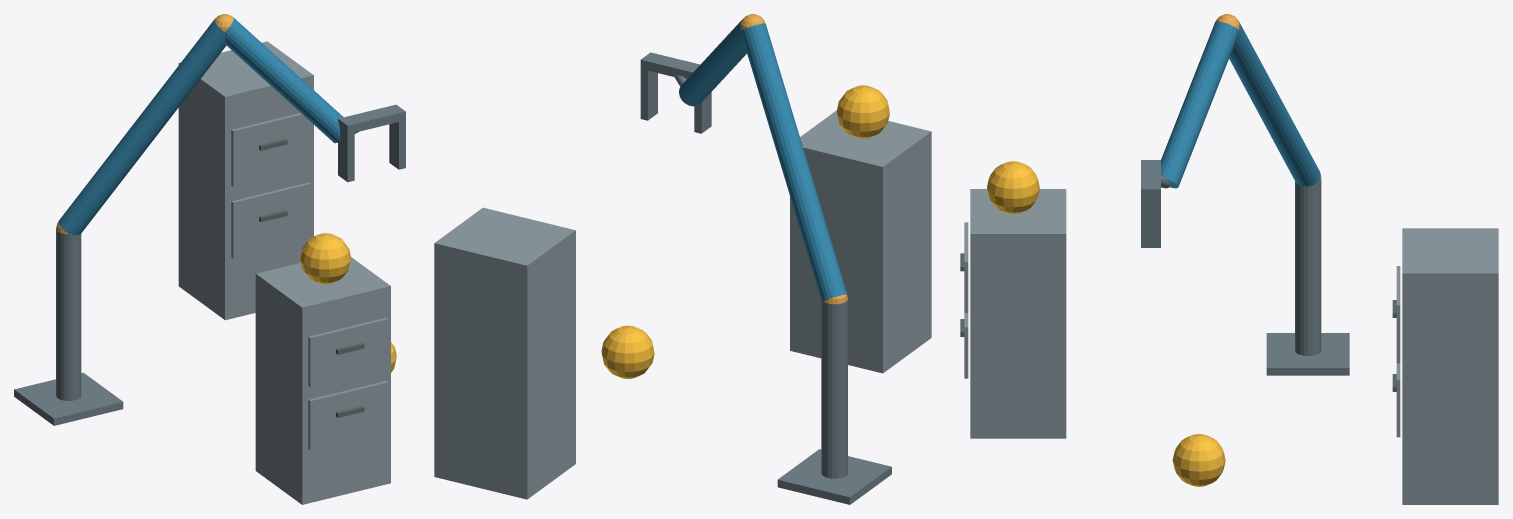
3 views of the same model, side by side, from view 1: azimuth 30°, elevation 25°; view 2: azimuth 150°, elevation 25°; view 3: azimuth 270°, elevation 25° (orthographic). The views are drawn at different scales.
Parts seen in each view (by area): view 1: cabinet_1 body, cabinet_2 body, moving link 1, cabinet_2 drawer front, cabinet_2 drawer front.001, fixed post, cabinet_1 drawer front, cabinet_1 drawer front.001, moving link 2, pedestal, released ball_1, gripper bridge (+2 smaller); view 2: cabinet_2 body, cabinet_1 body, moving link 1, fixed post, pedestal, moving link 2, released ball_1, ball ball_2, gripper bridge, gripper finger 1, gripper finger -1; view 3: cabinet_2 body, cabinet_1 body, fixed post, moving link 2, moving link 1, pedestal, released ball_1, ball ball_2, gripper finger 1, gripper bridge.
Boxes of the visible parts, box(x1,y1,x2,y2) form: cabinet_1 body: box(255, 257, 390, 504); cabinet_2 body: box(178, 41, 313, 320); moving link 1: box(58, 19, 226, 235); cabinet_2 drawer front: box(231, 182, 311, 258); cabinet_2 drawer front.001: box(231, 113, 311, 186); fixed post: box(56, 228, 81, 400); cabinet_1 drawer front: box(308, 381, 388, 450); cabinet_1 drawer front.001: box(308, 317, 388, 387); moving link 2: box(225, 17, 343, 143); pedestal: box(14, 372, 123, 425); released ball_1: box(300, 233, 350, 284); gripper bridge: box(338, 104, 405, 134); cabinet_2 body: box(434, 207, 575, 499); cabinet_1 body: box(790, 110, 931, 373); moving link 1: box(741, 23, 847, 301); fixed post: box(821, 300, 847, 478); pedestal: box(777, 449, 891, 504); moving link 2: box(679, 18, 746, 106); released ball_1: box(837, 85, 889, 138); ball ball_2: box(601, 325, 654, 378); gripper bridge: box(640, 52, 700, 78); gripper finger 1: box(640, 69, 657, 120); gripper finger -1: box(694, 92, 711, 133); cabinet_2 body: box(1402, 228, 1498, 504); cabinet_1 body: box(970, 189, 1066, 438); fixed post: box(1295, 178, 1321, 355); moving link 2: box(1161, 21, 1238, 188); moving link 1: box(1229, 20, 1320, 186); pedestal: box(1266, 333, 1349, 375); released ball_1: box(987, 161, 1039, 214); ball ball_2: box(1172, 434, 1225, 486); gripper finger 1: box(1141, 198, 1160, 247); gripper bridge: box(1141, 160, 1160, 198).
Size of the model in its own units: 1.17 by 1.34 by 1.62.
